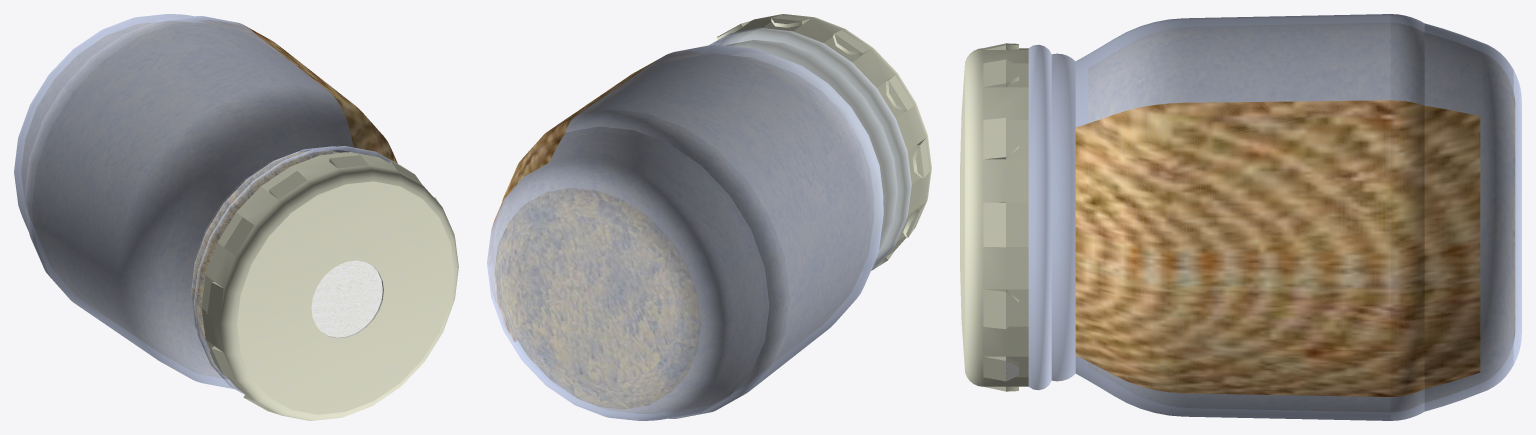
Rendered from model_align.obj.
3 renders of one model, left to right at view 1: azimuth 30°, elevation 25°; view 2: azimuth 150°, elevation 25°; view 3: azimuth 270°, elevation 25°, orthographic. The views are drawn at different scales.
Parts seen in each view (by area): view 1: mesh3_mesh3-geometry, mesh1_mesh1-geometry; view 2: mesh3_mesh3-geometry, mesh1_mesh1-geometry; view 3: mesh3_mesh3-geometry, mesh1_mesh1-geometry.
Boxes of the visible parts, <box> form: mesh3_mesh3-geometry: <box>14,14,458,420</box>; mesh1_mesh1-geometry: <box>22,21,355,378</box>; mesh3_mesh3-geometry: <box>487,14,931,420</box>; mesh1_mesh1-geometry: <box>495,54,873,413</box>; mesh3_mesh3-geometry: <box>960,14,1521,420</box>; mesh1_mesh1-geometry: <box>1088,23,1515,411</box>.
Size of the model in its own units: 0.1347 by 0.1347 by 0.1852.
